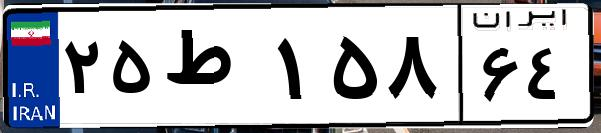1: (270, 28, 330, 110)
2: (57, 26, 110, 100)
4: (525, 38, 570, 115)
5: (330, 28, 385, 110), (110, 28, 158, 98)
6: (475, 38, 525, 113)
8: (385, 28, 445, 110)
ط: (158, 20, 270, 120)
